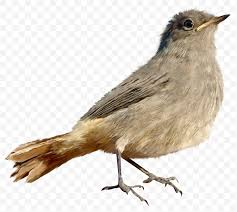hsparrow: (5, 8, 231, 202)
